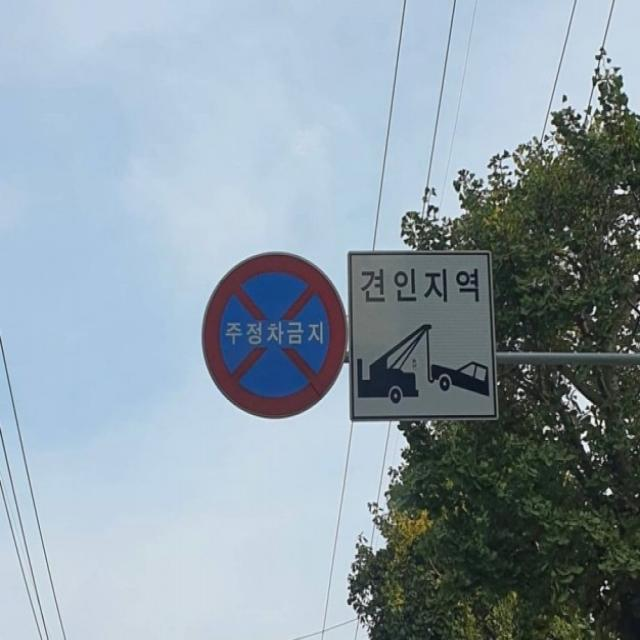regulatory_No_stop_or_parking: (195, 240, 352, 432)
